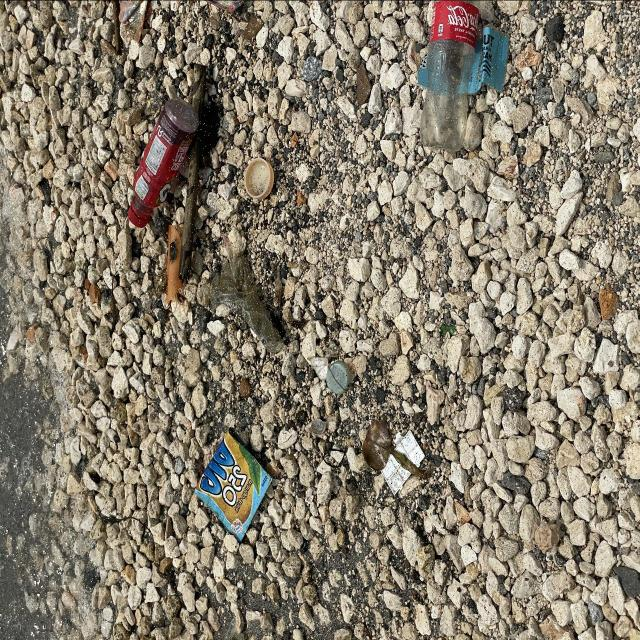plastic_waste: (127, 97, 200, 229), (419, 1, 481, 153), (194, 426, 270, 539), (245, 158, 275, 200)
